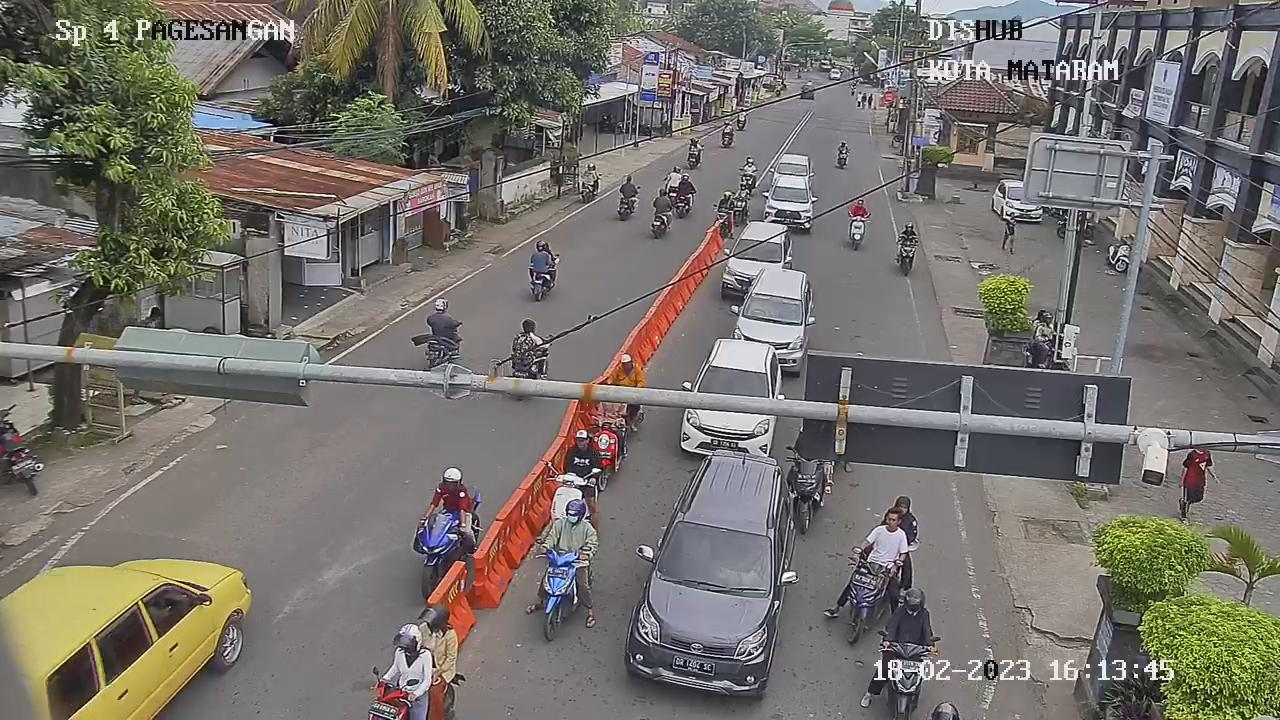car: (0, 519, 253, 720), (627, 445, 799, 696), (678, 338, 787, 460), (727, 269, 812, 349), (719, 218, 796, 305), (759, 171, 819, 229), (989, 175, 1047, 228), (768, 147, 817, 185)
motorbike: (521, 541, 592, 642), (838, 547, 901, 642), (408, 500, 463, 598), (779, 445, 835, 537), (537, 458, 595, 529), (587, 415, 624, 484), (364, 670, 415, 720), (845, 210, 870, 251), (893, 239, 919, 277), (1108, 235, 1131, 276), (710, 203, 734, 239), (729, 192, 751, 224), (736, 167, 759, 197), (836, 148, 852, 169)
person: (875, 581, 942, 664), (536, 494, 601, 565), (379, 620, 436, 688), (423, 463, 476, 536), (551, 427, 606, 489), (855, 505, 907, 568), (420, 303, 465, 367), (509, 314, 551, 366), (607, 352, 648, 398), (529, 234, 561, 277), (711, 187, 737, 221), (650, 187, 675, 219), (845, 192, 871, 222), (614, 171, 639, 202), (674, 169, 697, 199), (659, 163, 680, 195), (895, 218, 919, 244), (739, 152, 758, 182), (732, 179, 752, 206), (837, 135, 853, 156)
